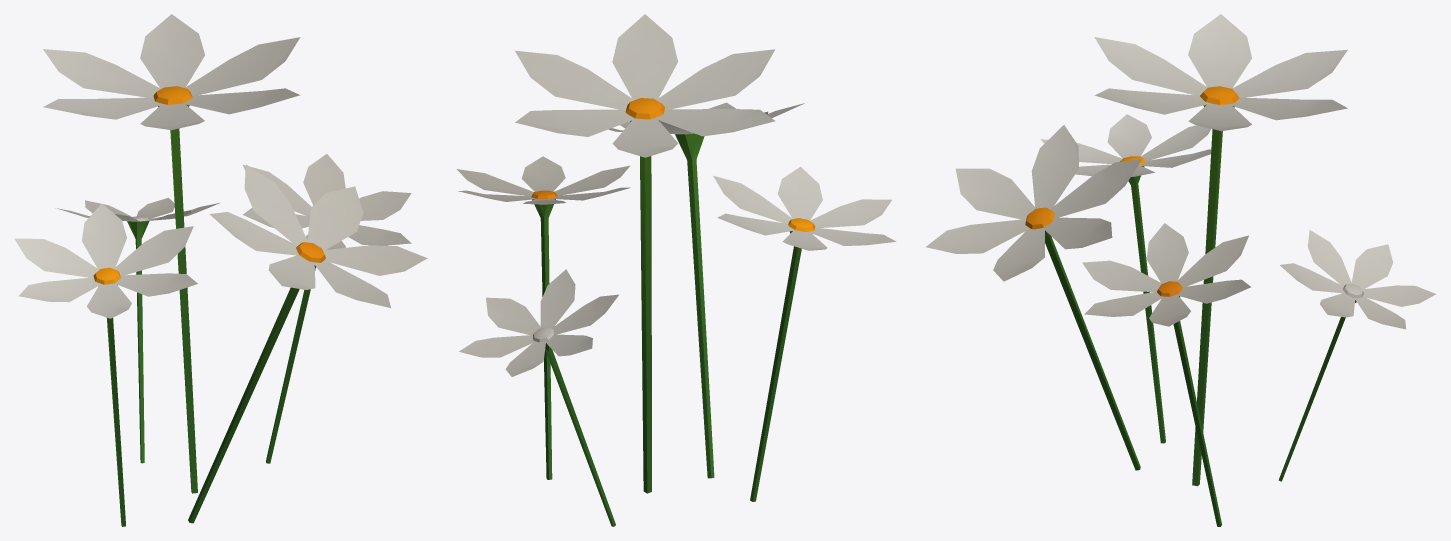
Rendered from Flower_1.fbx.
The picture shows the model from 3 angles, left to right: view 1: azimuth 30°, elevation 25°; view 2: azimuth 150°, elevation 25°; view 3: azimuth 270°, elevation 25°; orthographic projection. The views are drawn at different scales.
Parts seen in each view (by area): view 1: Flowers_1; view 2: Flowers_1; view 3: Flowers_1.
Part boxes in pixels (x1,y1,x2,y2): Flowers_1: [14, 14, 427, 526]; Flowers_1: [456, 14, 896, 526]; Flowers_1: [925, 14, 1436, 526].
Size of the model in its own units: 0.3915 by 0.4244 by 0.3815.
